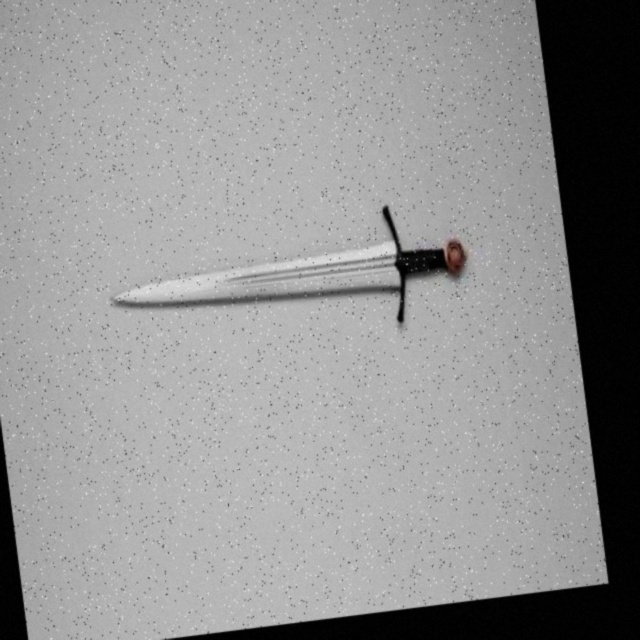Sharp-Object: (101, 216, 478, 336)
